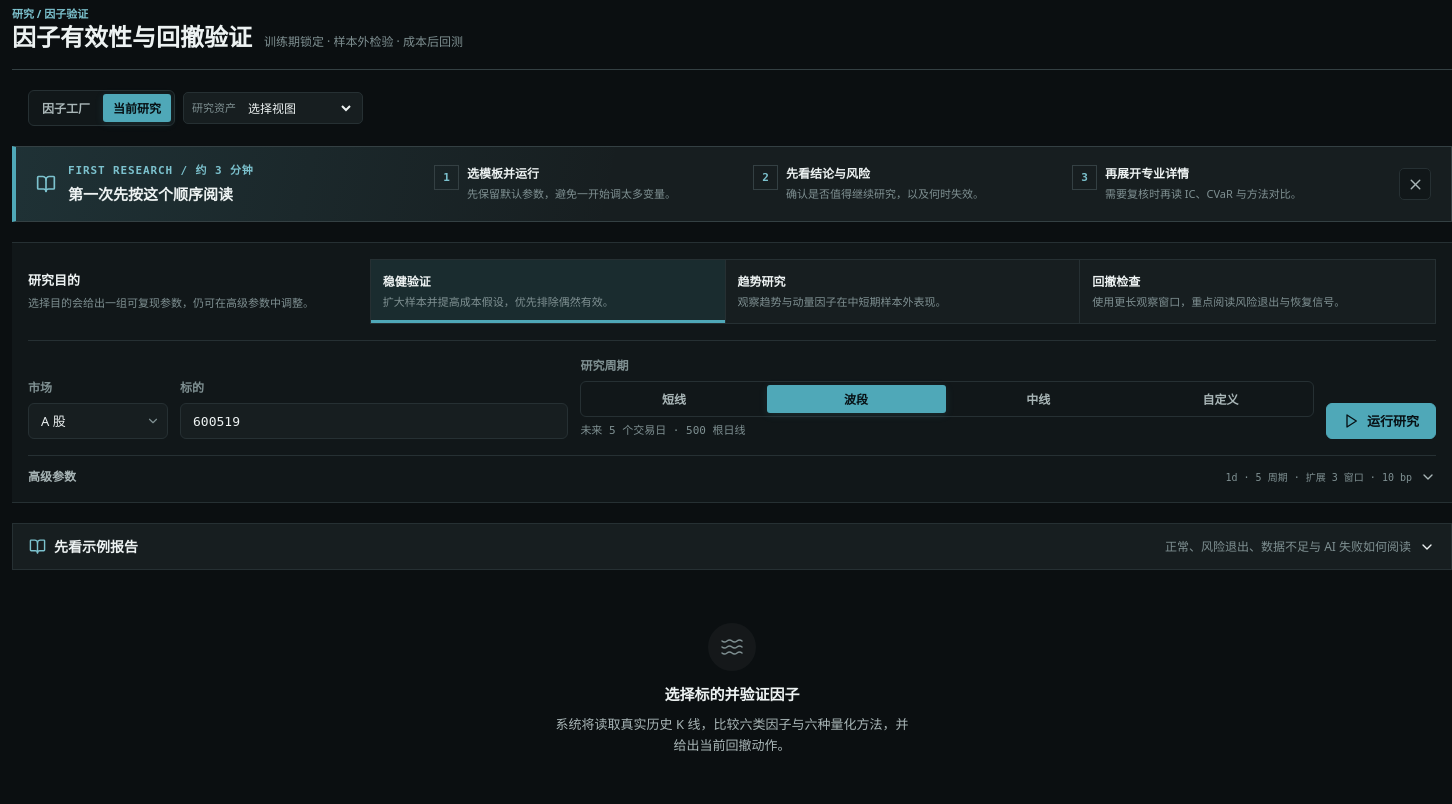
FactorResearchPage › provides purpose templates, examples, term help, and a permanently dismissible first guide
Expected: the element named "第一次阅读顺序" is shown, [12,146,1451,222]
Click the button named "永久关闭首次阅读引导". click: (1415, 184)
box: [1399,168,1431,200]
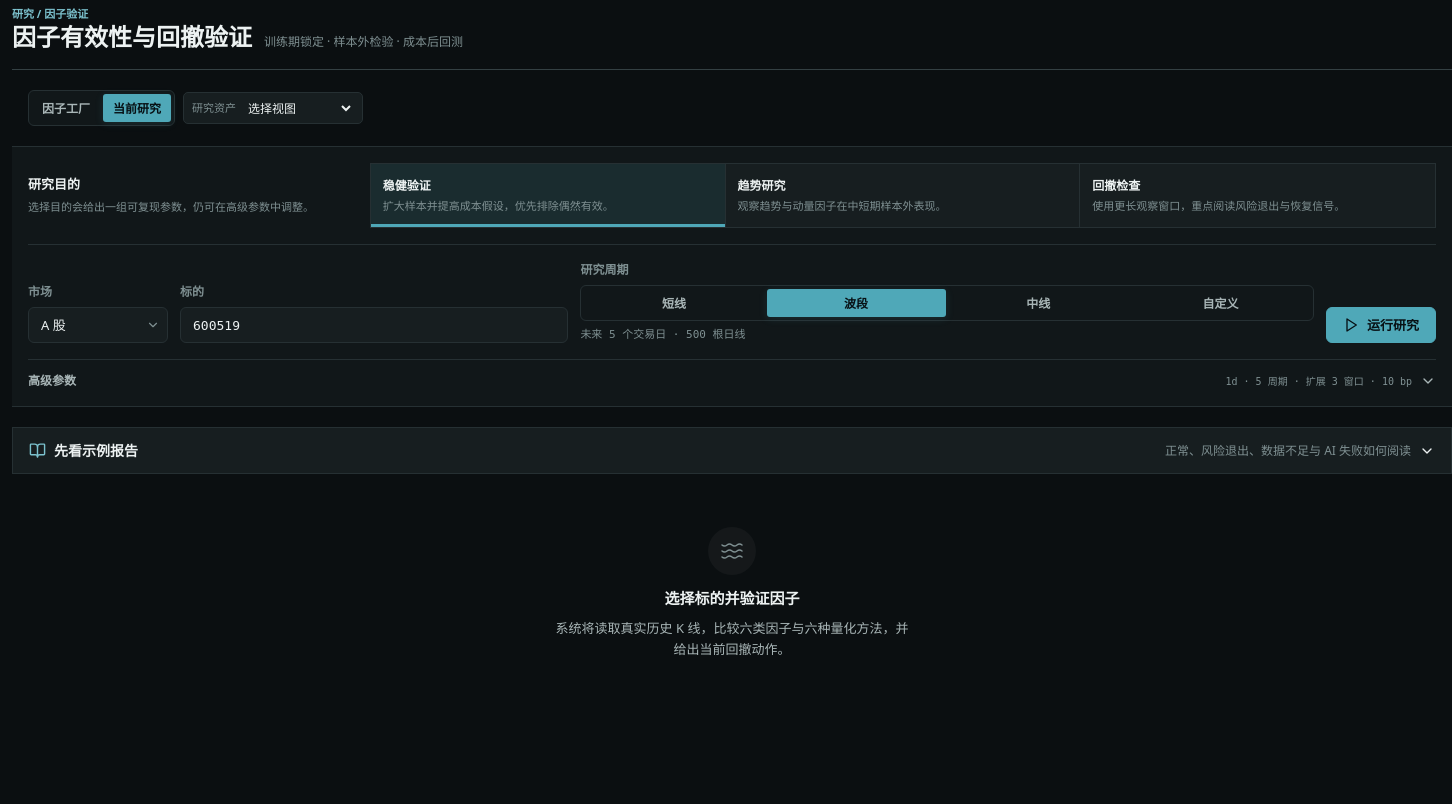
Expected: the element "第一次阅读顺序" is gone
Click the button "回撤检查 使用更长观察窗口，重点阅读风险退出与恢复信号。". click: (1258, 195)
box: [1080,164,1435,226]
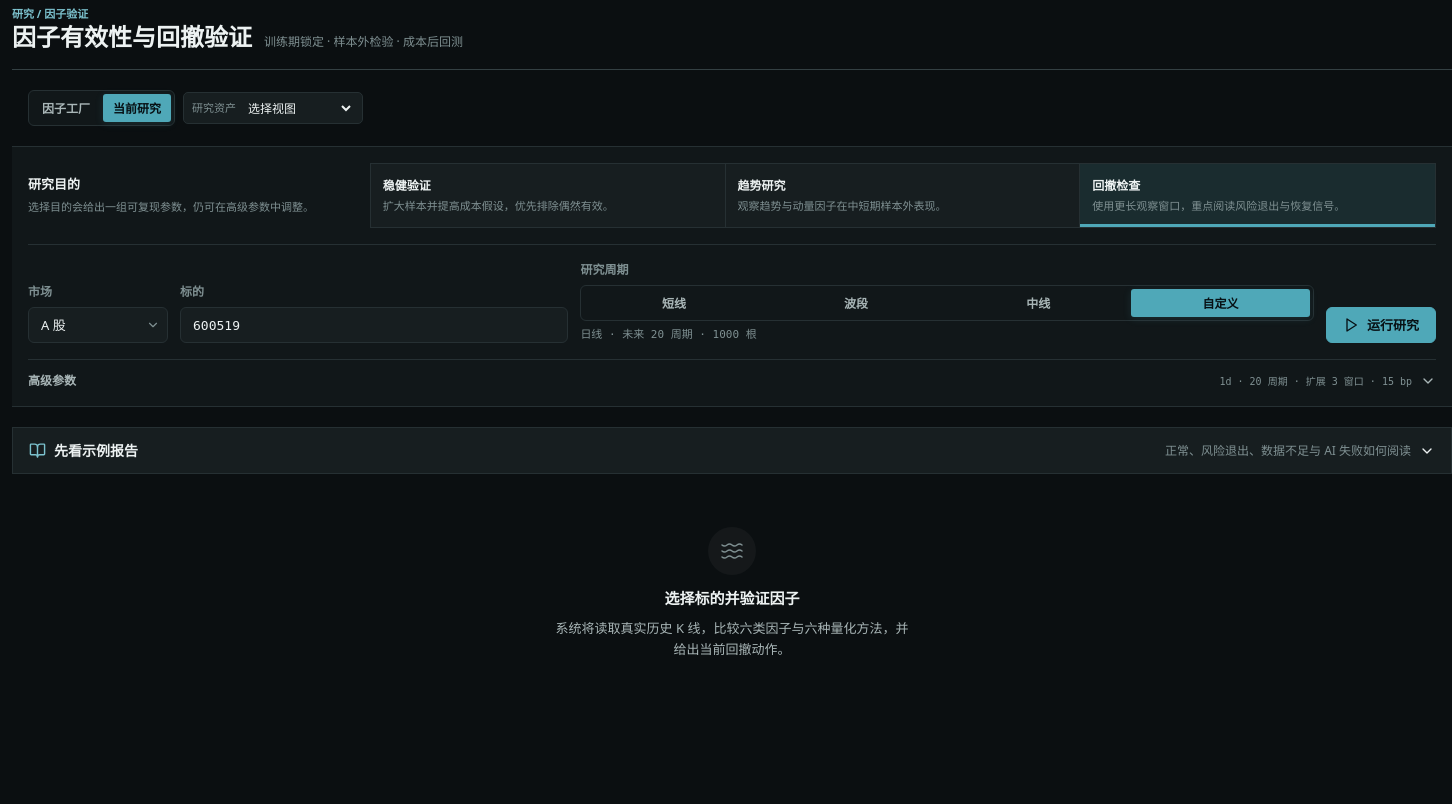
Click the button "运行研究". click: (1381, 325)
box: [1326,307,1436,343]
(page scrolled)
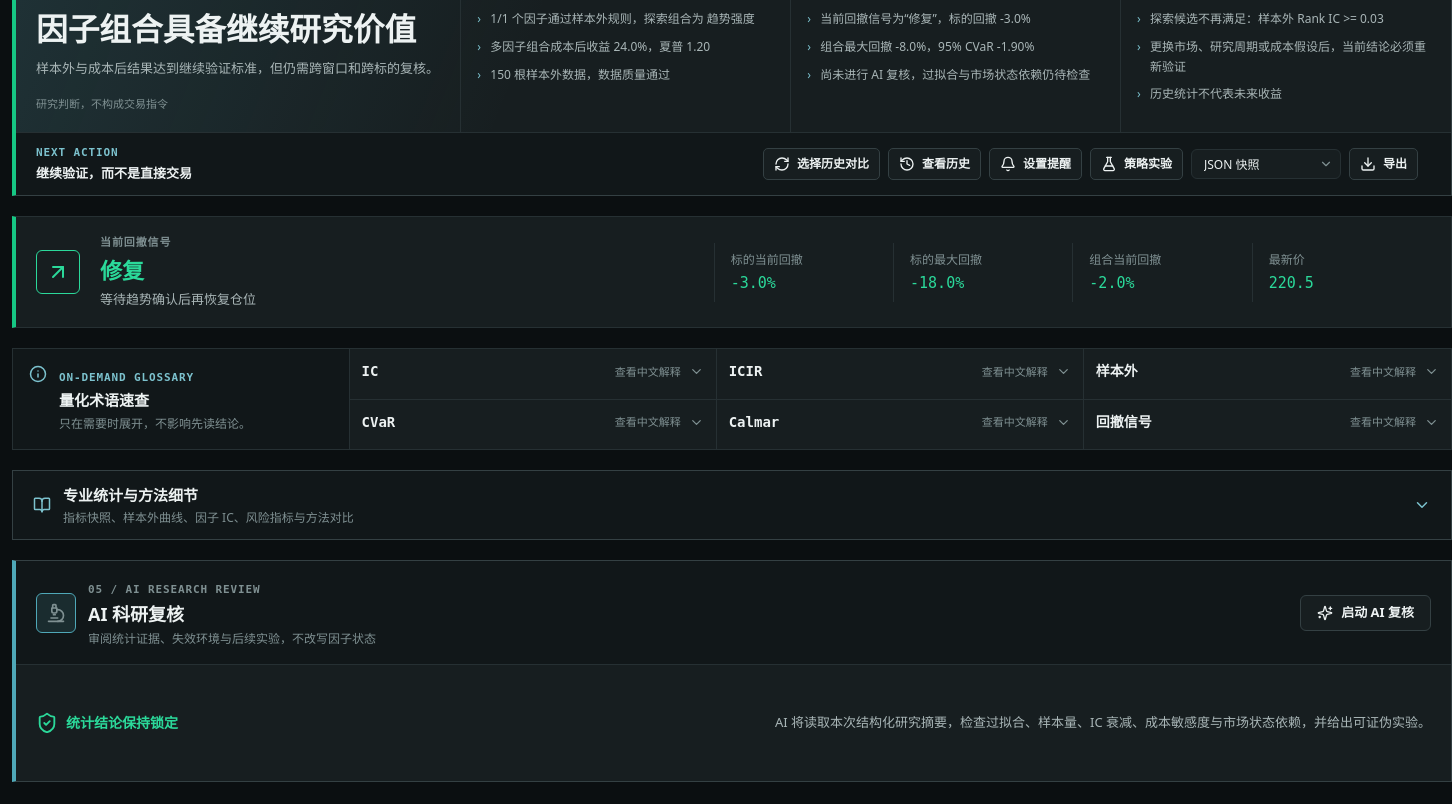
Expected: the element "量化术语速查" is shown, [12,348,1451,450]
Expected: the text "查看中文解释" is shown 6 times, [615,364,681,380]; [982,364,1048,380]; [1350,364,1416,380]; [615,414,681,431]; [982,414,1048,431]; [1350,414,1416,431]
